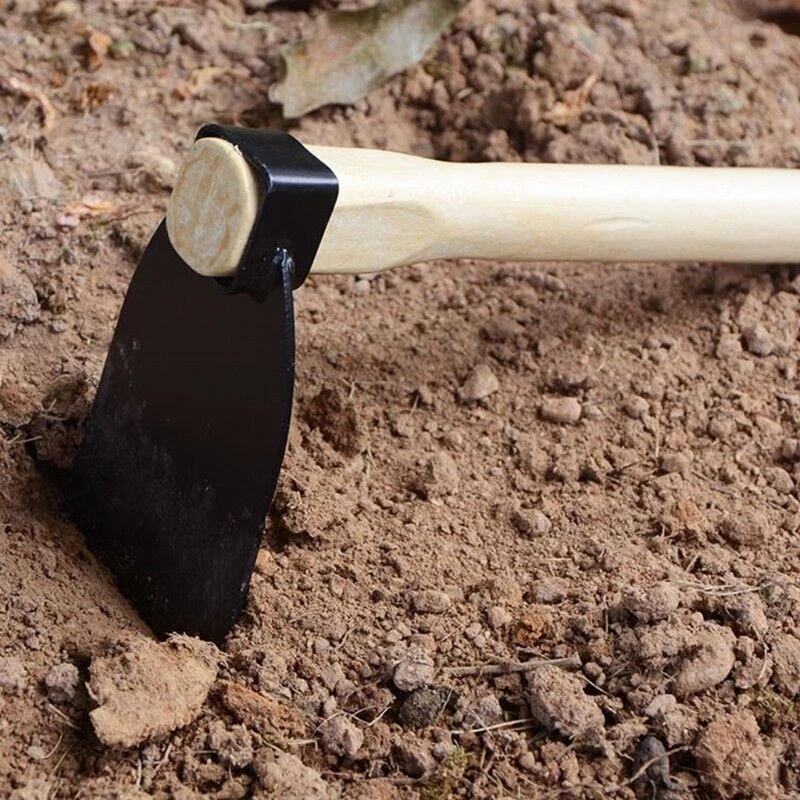HOUE: (42, 112, 800, 675)
